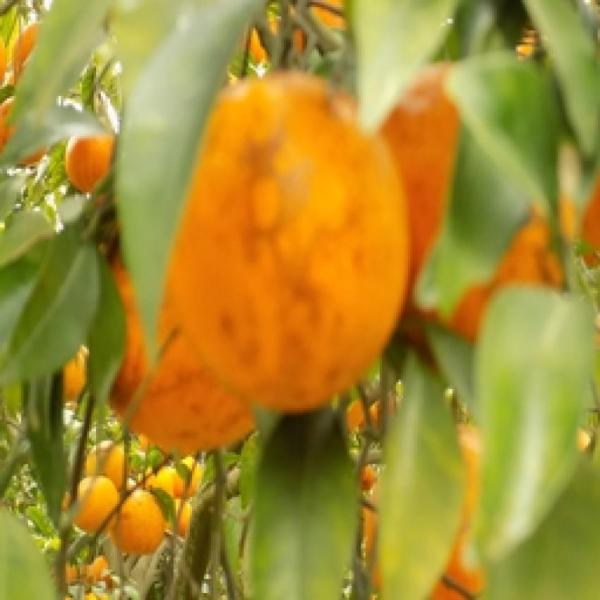Canker: (159, 67, 415, 420), (365, 61, 580, 339), (83, 200, 257, 464)
